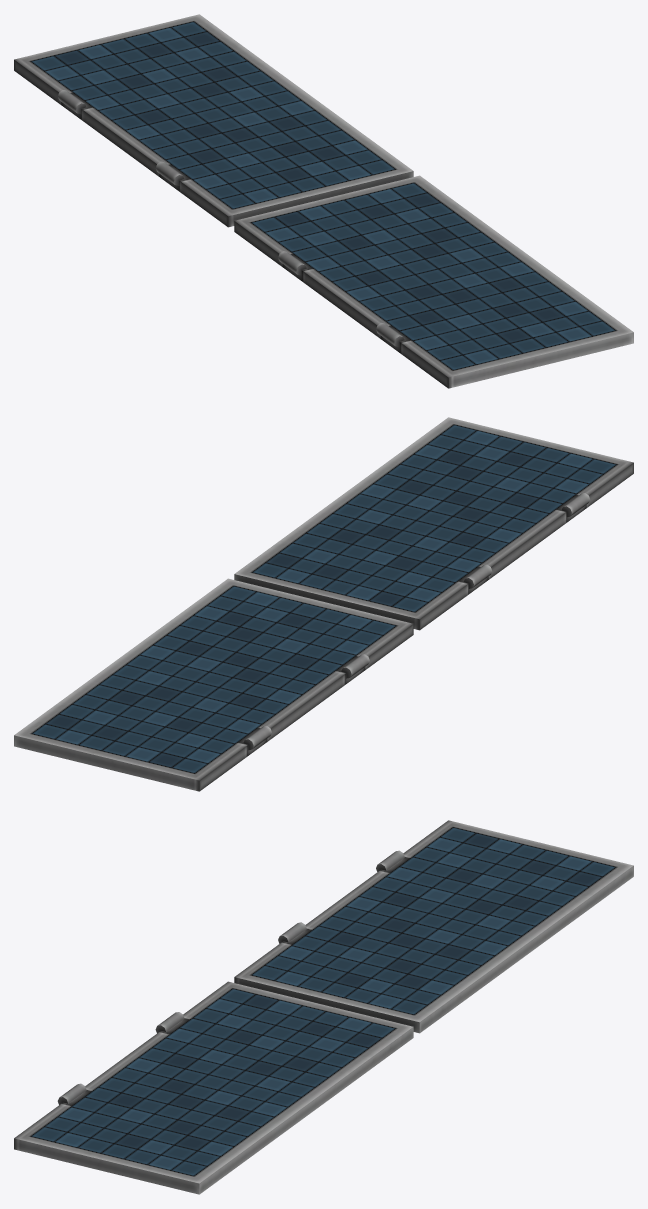
File: eridani_solar_long_wide_extra_top.obj
The picture shows the model from 3 angles, top to bottom: view 1: azimuth 30°, elevation 25°; view 2: azimuth 150°, elevation 25°; view 3: azimuth 330°, elevation 25°; orthographic projection.
Visible parts, largest first — view 1: mesh1; view 2: mesh1; view 3: mesh1.
Boxes of the visible parts, x1,y1,x2,y2 form: mesh1: (14, 14, 633, 388); mesh1: (14, 417, 633, 791); mesh1: (14, 820, 633, 1194).
Size of the model in its own units: 0.45 by 0.0375 by 1.78.
Materials: 1 (1 with a texture image).
